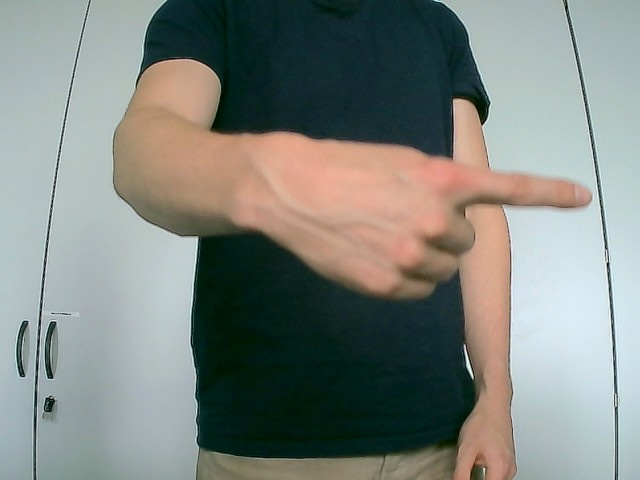left: (231, 130, 594, 303)
